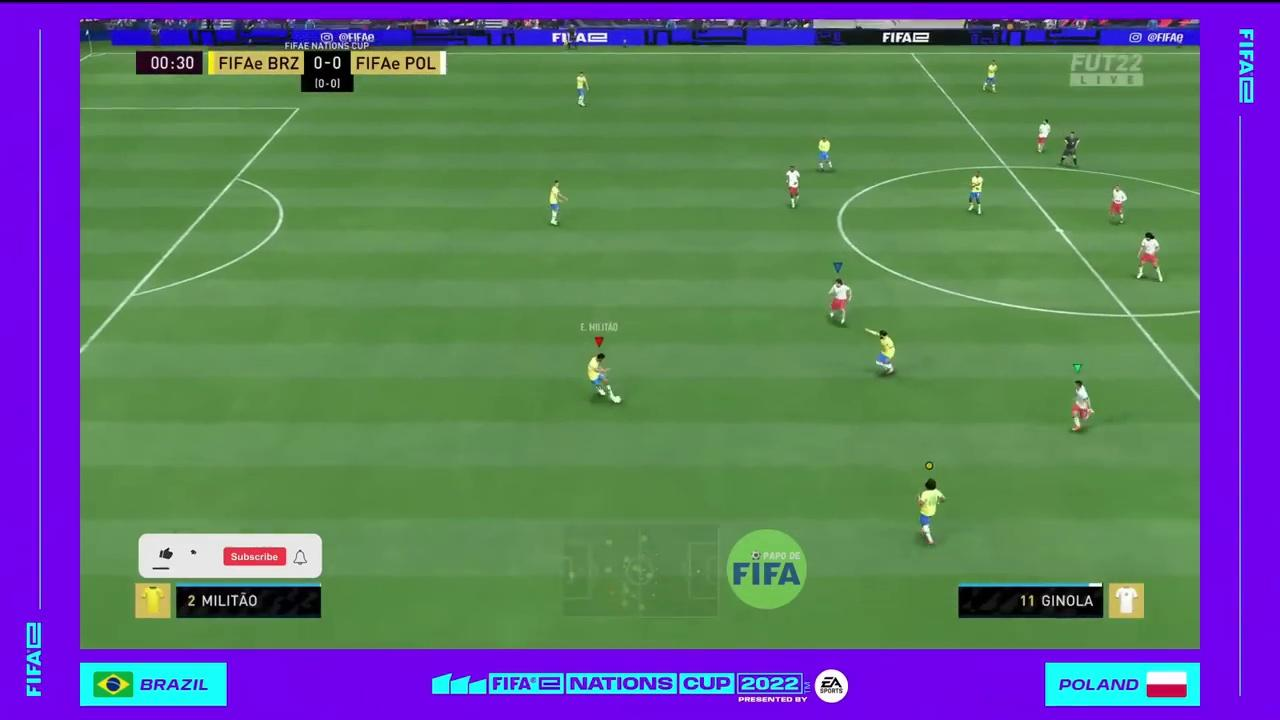scoreboard: (210, 48, 445, 77)
timestamp: (136, 51, 208, 78)
